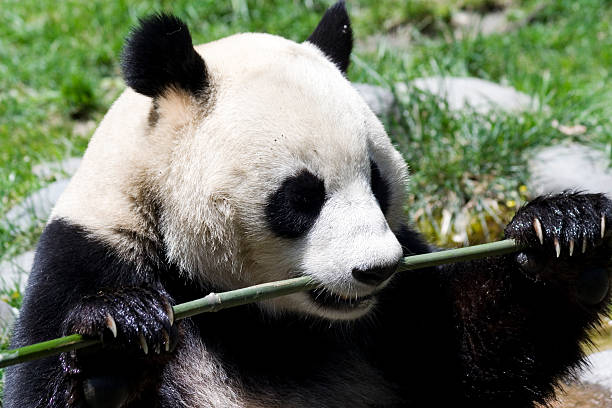panda: (106, 3, 456, 345)
